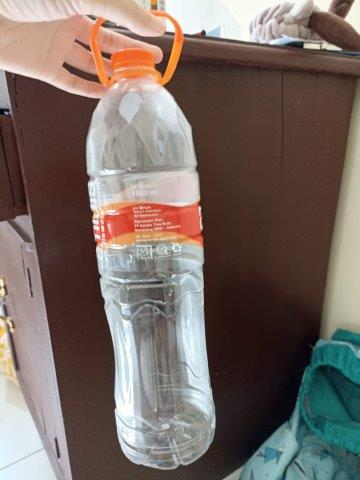botolplastik: (85, 16, 216, 469)
